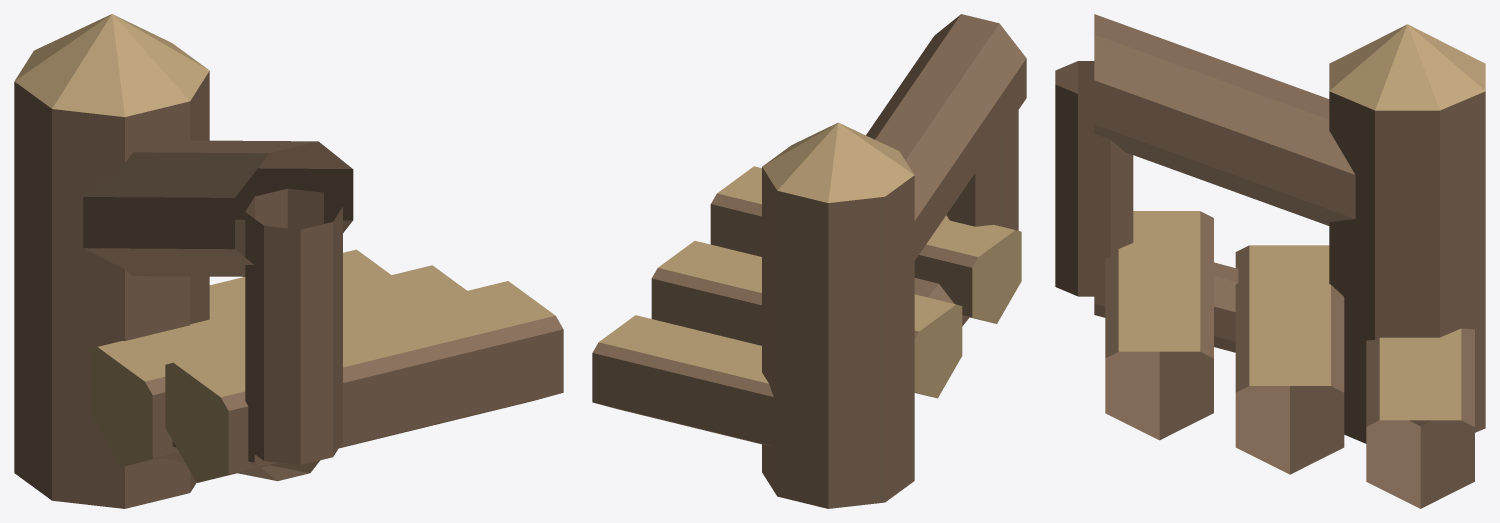
Rendered from Hilly_Prop_Bridge_Log_End_Edge.obj.
3 renders of one model, left to right at view 1: azimuth 30°, elevation 25°; view 2: azimuth 150°, elevation 25°; view 3: azimuth 270°, elevation 25°, orthographic. The views are drawn at different scales.
Visible parts, largest first — view 1: object2, object1, object4, object7, object5, object3, object6; view 2: object2, object7, object3, object5, object1, object4, object6; view 3: object2, object7, object5, object1, object3, object4, object6.
Part boxes in pixels (bbox=[...]): object2: bbox=[14, 14, 209, 508]; object1: bbox=[165, 281, 563, 482]; object4: bbox=[245, 188, 342, 464]; object7: bbox=[83, 140, 353, 276]; object5: bbox=[89, 265, 466, 467]; object3: bbox=[209, 249, 391, 319]; object6: bbox=[160, 428, 319, 481]; object2: bbox=[762, 122, 914, 508]; object7: bbox=[866, 14, 1026, 260]; object3: bbox=[592, 315, 773, 446]; object5: bbox=[651, 241, 962, 398]; object1: bbox=[710, 166, 1021, 323]; object4: bbox=[946, 110, 1018, 230]; object6: bbox=[914, 278, 969, 326]; object2: bbox=[1329, 24, 1485, 443]; object7: bbox=[1094, 14, 1355, 225]; object5: bbox=[1235, 245, 1344, 474]; object1: bbox=[1105, 211, 1213, 440]; object3: bbox=[1366, 328, 1474, 508]; object4: bbox=[1055, 61, 1133, 296]; object6: bbox=[1094, 262, 1238, 352].
Size of the model in its own units: 0.9 by 1.1 by 1.1.
